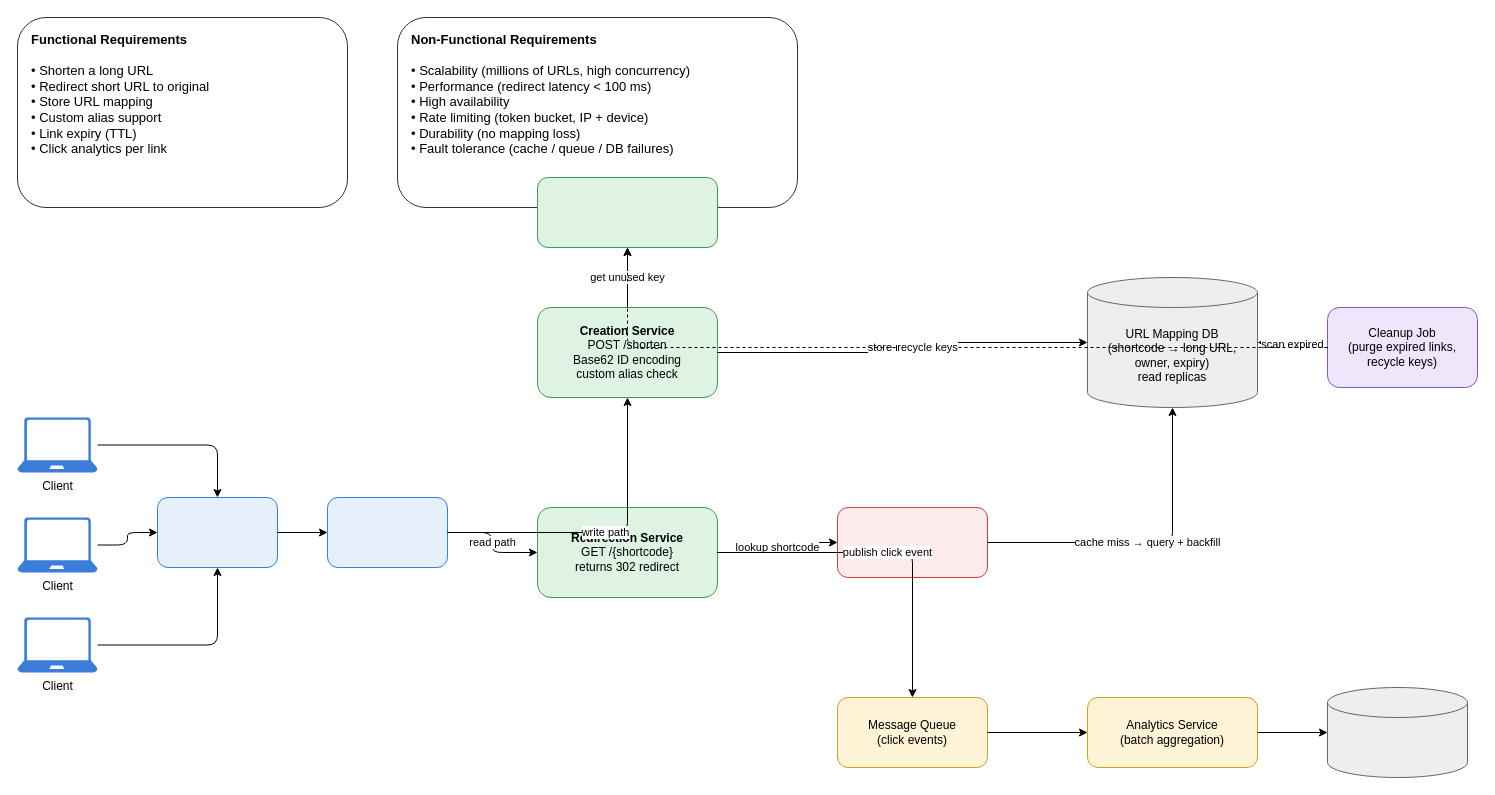
The diagram is 1495 pixels wide and 795 high, and some of its shapes have lost their labels. The centre of each missing label's shape, as x and y in pixels:
Analytics Store: point (1397, 732)
API Gateway (auth + rate limit): point (217, 532)
Key Generation Service (pre-generated unique keys): point (627, 212)
Load Balancer: point (387, 532)
Redis Cache (hot URLs, TTL): point (912, 542)
